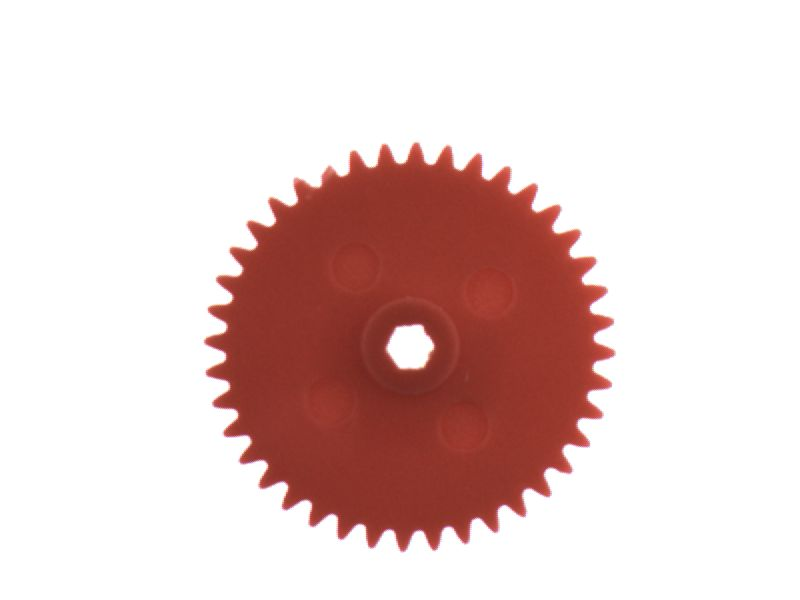defect_break: (307, 147, 348, 188)
